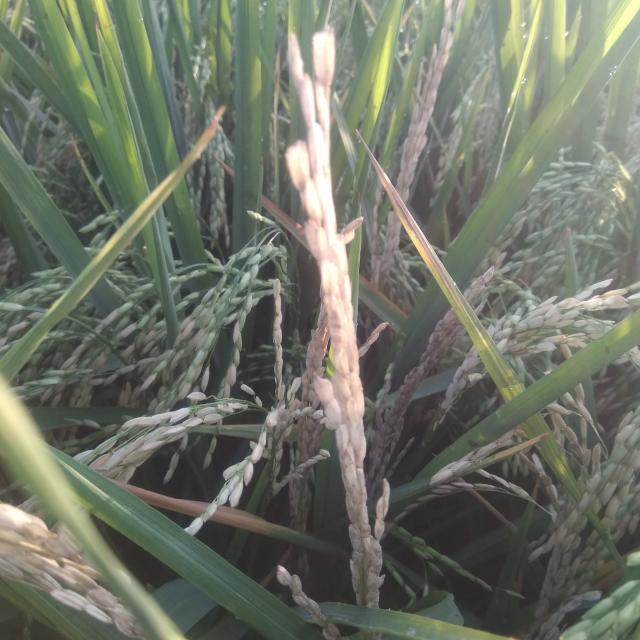Brown spot: (108, 475, 283, 538), (161, 105, 226, 185)
